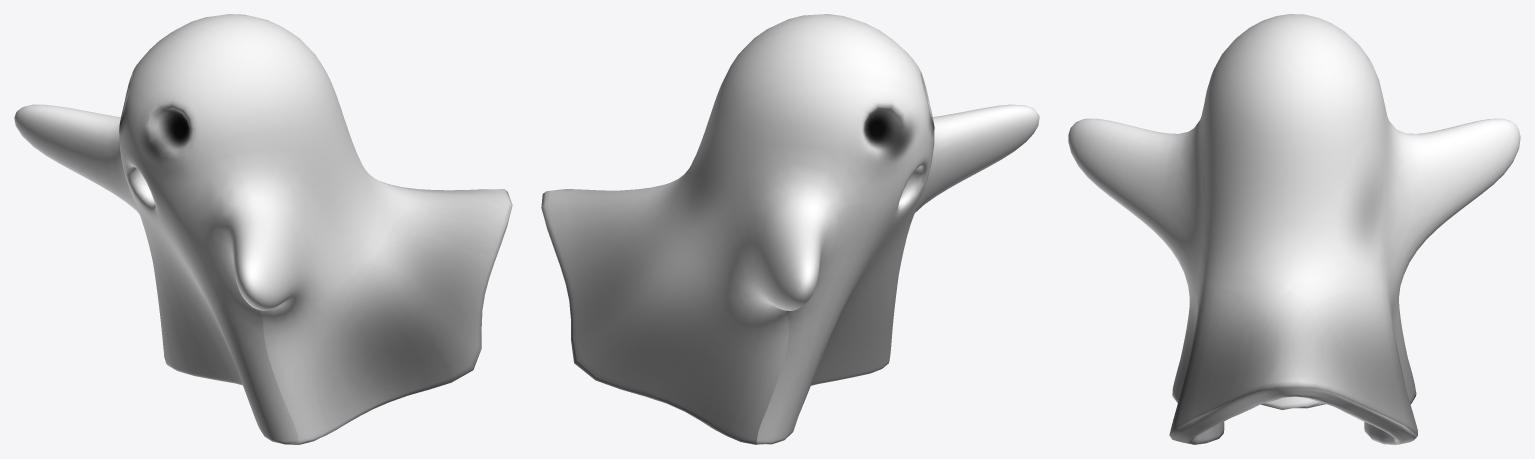
The model's file is ghost.fbx.
The picture shows the model from 3 angles, left to right: view 1: azimuth 30°, elevation 25°; view 2: azimuth 150°, elevation 25°; view 3: azimuth 270°, elevation 25°; orthographic projection. The views are drawn at different scales.
Parts seen in each view (by area): view 1: ghost; view 2: ghost; view 3: ghost.
Boxes of the visible parts, bbox=[...] form: ghost: bbox=[14, 14, 512, 444]; ghost: bbox=[541, 14, 1039, 444]; ghost: bbox=[1068, 14, 1520, 444].
Bounding box in the file's own units: 85.94 × 81.77 × 92.64.
